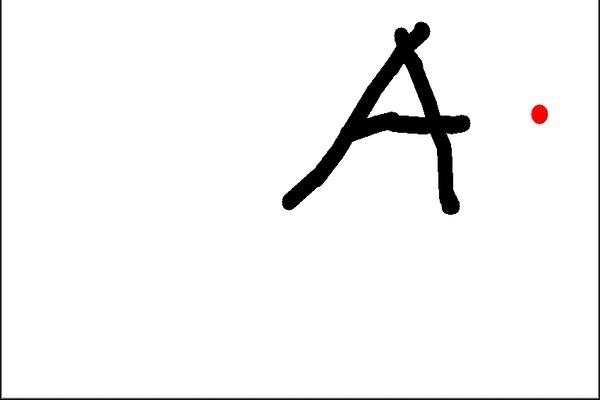A: (268, 17, 473, 227)
